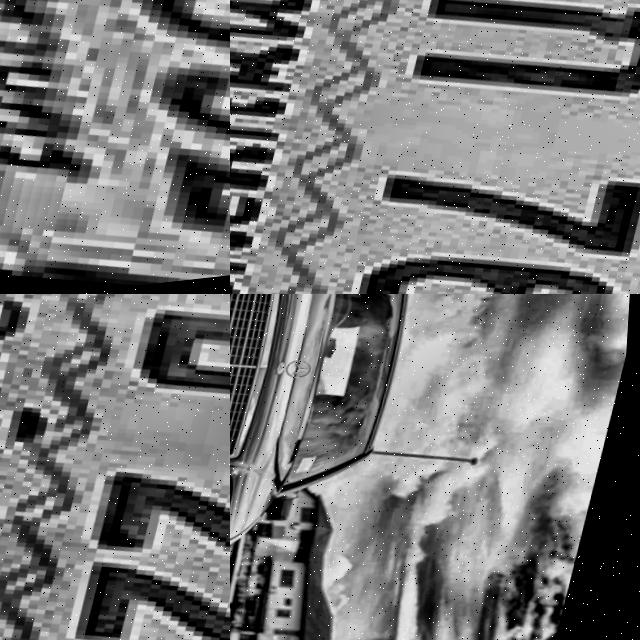license-plate: (230, 0, 640, 294), (0, 294, 230, 640), (0, 0, 230, 294)
